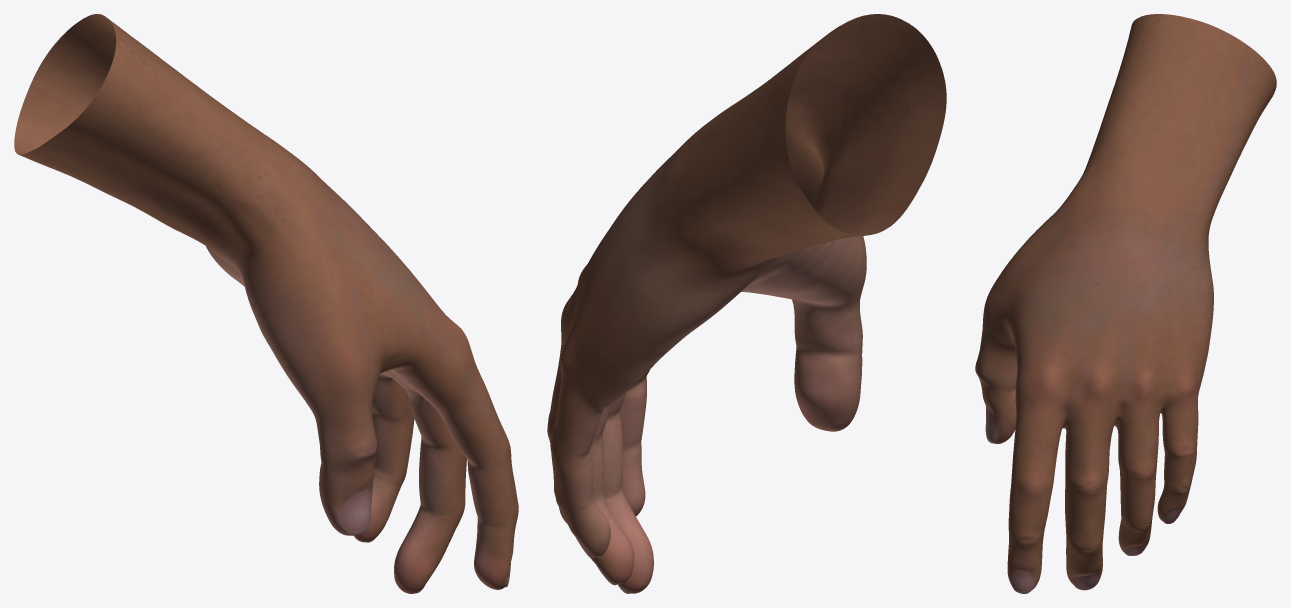
File: hand_optimized.glb
3 renders of one model, left to right at view 1: azimuth 30°, elevation 25°; view 2: azimuth 150°, elevation 25°; view 3: azimuth 270°, elevation 25°, orthographic. The views are drawn at different scales.
Visible parts, largest first — view 1: defaultMaterial; view 2: defaultMaterial; view 3: defaultMaterial.
Part boxes in pixels (x1,y1,x2,y2): defaultMaterial: (14,14,518,593); defaultMaterial: (547,14,946,593); defaultMaterial: (975,14,1276,593).
Bounding box in the file's own units: 1.36 × 2 × 1.14.
Materials: 1 (1 with a texture image).
